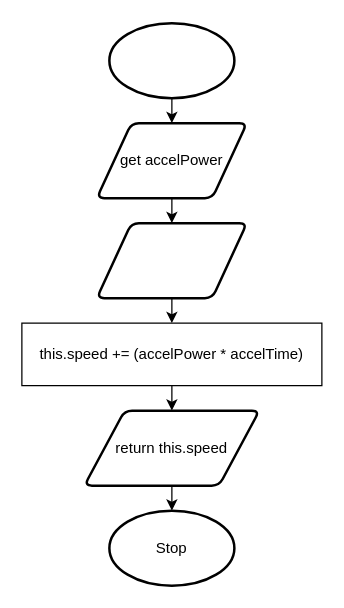
This 344x608 diagram has some shape labels left out. The shapes that lost their labels are listed below. From the top down, each one's centre as x and y in pixels, then its label:
At point (171, 60): "Start".
At point (171, 260): "get accelTime".
